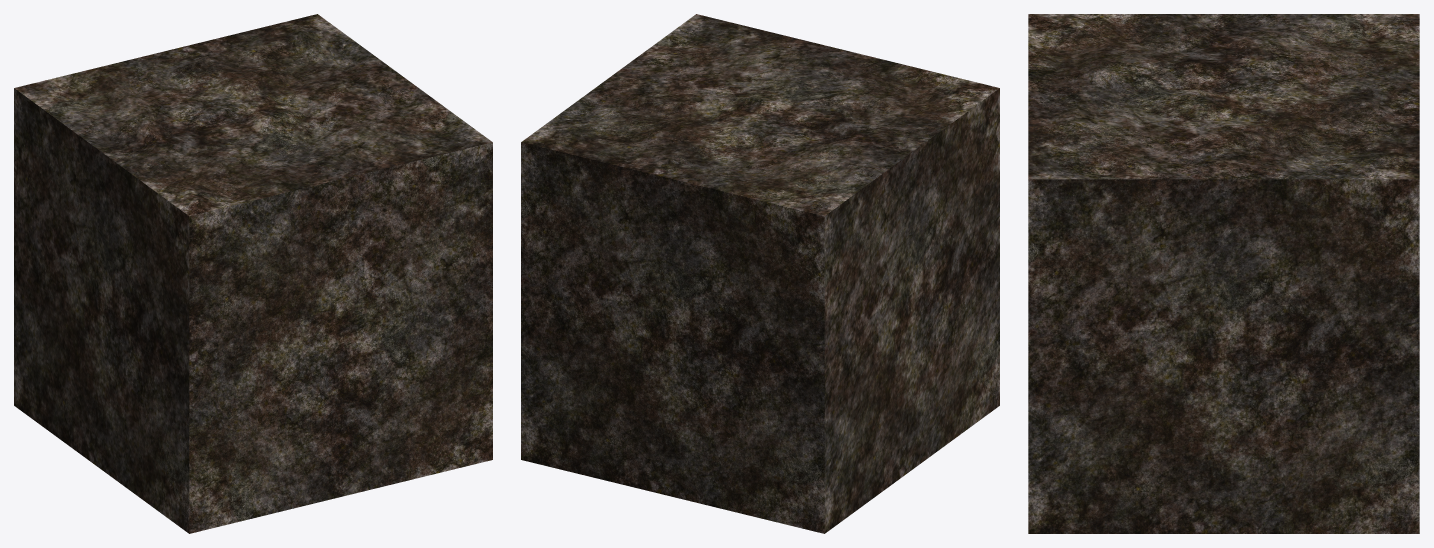
The model's file is Floor_model_v2.fbx.
3 renders of one model, left to right at view 1: azimuth 30°, elevation 25°; view 2: azimuth 150°, elevation 25°; view 3: azimuth 270°, elevation 25°, orthographic. The views are drawn at different scales.
Visible parts, largest first — view 1: Cube; view 2: Cube; view 3: Cube.
Part boxes in pixels (bbox=[...]): Cube: bbox=[14, 14, 492, 533]; Cube: bbox=[521, 14, 999, 533]; Cube: bbox=[1028, 14, 1419, 533].
Size of the model in its own units: 200 by 203 by 200.
Materials: 1 (1 with a texture image).
